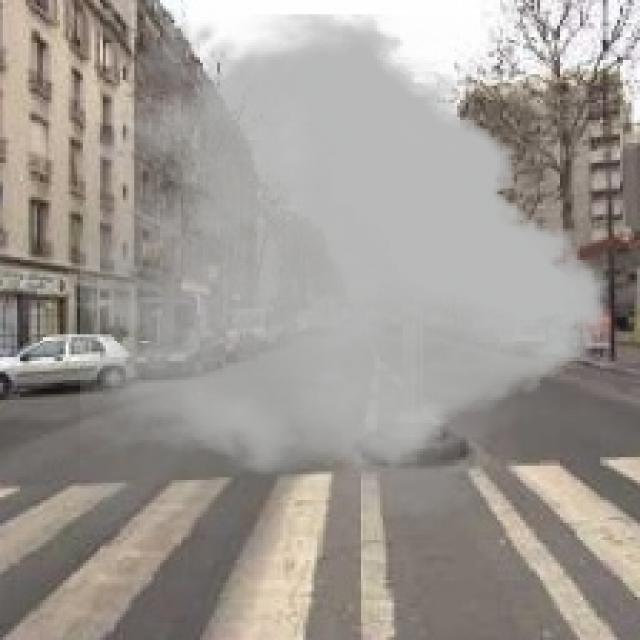smoke: (80, 6, 609, 534)
